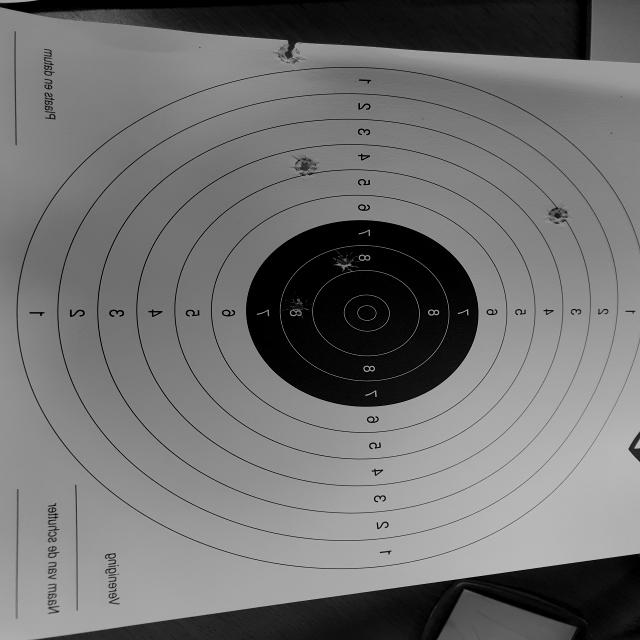0: (275, 43, 304, 66)
3: (543, 204, 570, 226)
5: (290, 155, 322, 179)
8: (281, 292, 313, 320), (332, 249, 359, 273)
Target: (16, 66, 640, 569)
black_contour: (246, 220, 479, 407)
